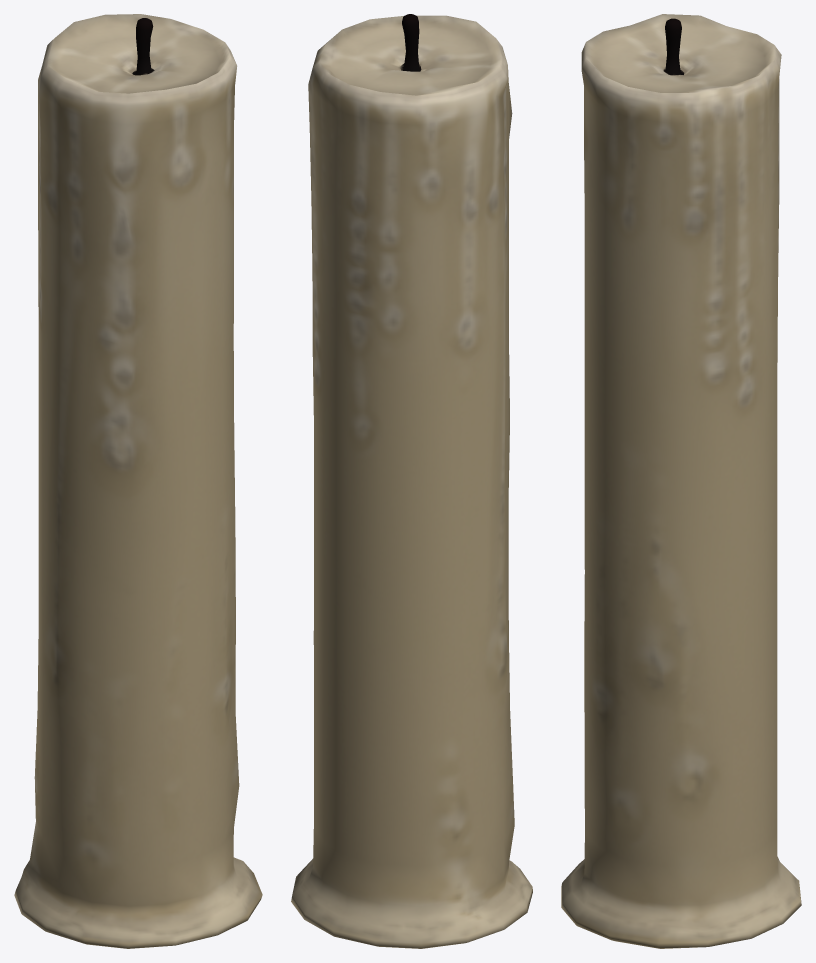
The model's file is candle_06.fbx.
3 renders of one model, left to right at view 1: azimuth 30°, elevation 25°; view 2: azimuth 150°, elevation 25°; view 3: azimuth 270°, elevation 25°, orthographic.
Visible parts, largest first — view 1: Candle_006; view 2: Candle_006; view 3: Candle_006.
Boxes of the visible parts, box(x1,y1,x2,y2) form: Candle_006: box(14, 14, 262, 948); Candle_006: box(291, 14, 532, 948); Candle_006: box(561, 14, 801, 948).
Bounding box in the file's own units: 33.66 × 135 × 33.29.
